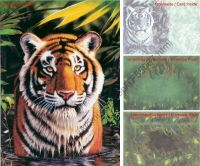Tigre: (8, 27, 111, 143)
